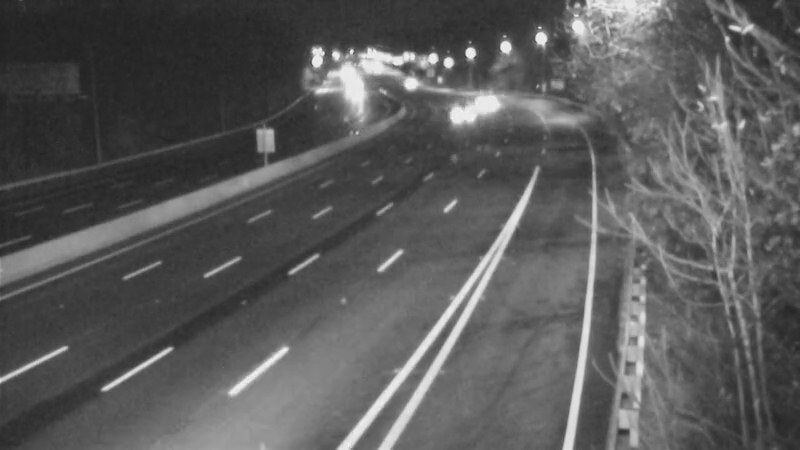vehicle: (382, 61, 432, 111), (455, 78, 505, 128), (438, 86, 488, 136)
